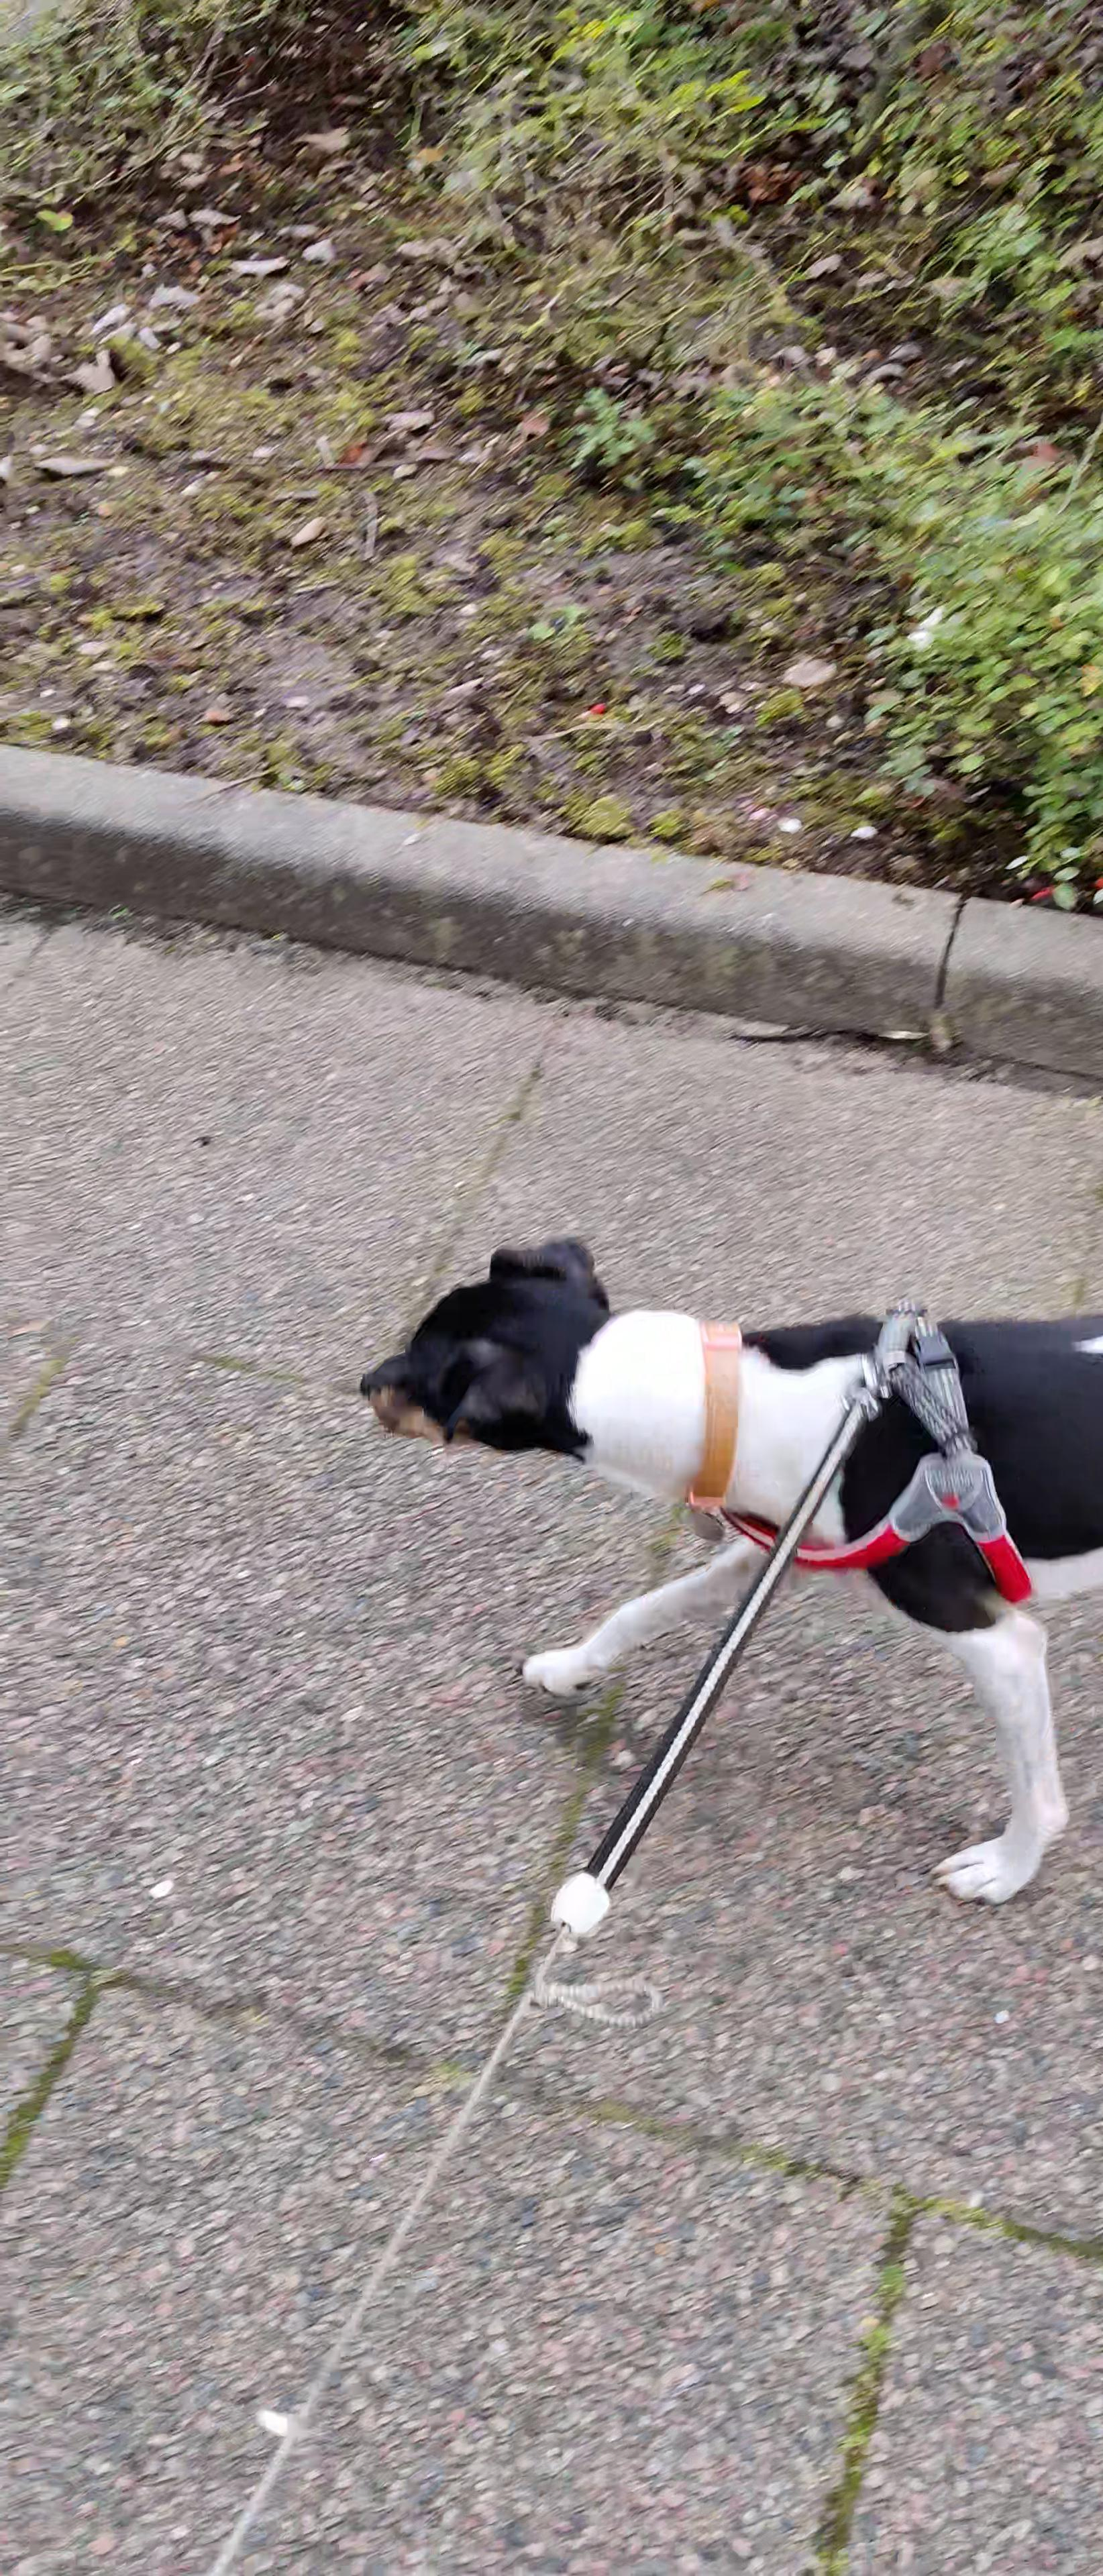Dog: (276, 1148, 1103, 1935)
